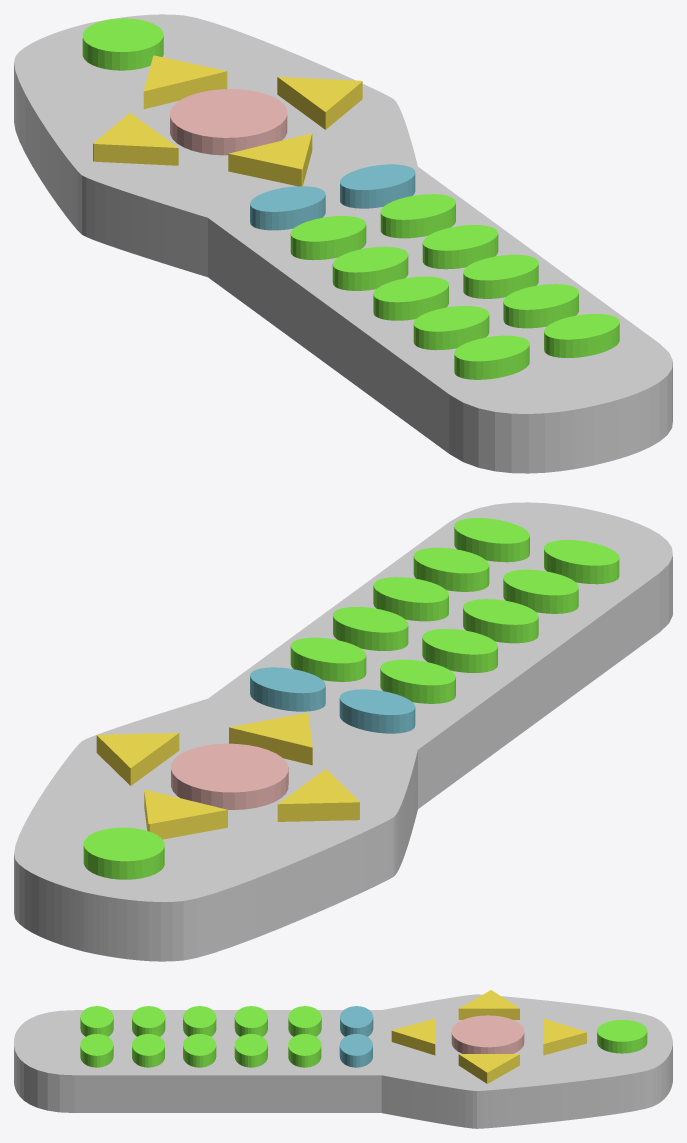
The model's file is remote.glb.
3 views of the same model, one above another, from view 1: azimuth 30°, elevation 25°; view 2: azimuth 150°, elevation 25°; view 3: azimuth 270°, elevation 25° (orthographic). The views are drawn at different scales.
Visible parts, largest first — view 1: Curve, Middle_Button, Power_Button, Prev_Proj, Next_Proj, Next_Channel, Prev_Channel, Button_9, Button_10, Button_1, Button_2, Button_3 (+7 smaller); view 2: Curve, Middle_Button, Power_Button, Next_Proj, Prev_Proj, Info_Button, Prev_Channel, Menu_Button, Button 4, Button_3, Button_2, Button_8 (+7 smaller); view 3: Curve, Middle_Button, Power_Button, Next_Proj, Prev_Proj, Next_Channel, Prev_Channel, Button_2, Button 4, Button_10, Button 6, Menu_Button (+7 smaller).
Part boxes in pixels (x1,y1,x2,y2): Curve: (14, 14, 672, 473); Middle_Button: (170, 89, 287, 155); Power_Button: (82, 18, 163, 70); Prev_Proj: (93, 112, 178, 165); Next_Proj: (277, 76, 362, 129); Next_Channel: (228, 133, 312, 186); Prev_Channel: (143, 55, 227, 109); Button_9: (454, 335, 529, 379); Button_10: (544, 314, 619, 357); Button_1: (290, 216, 366, 260); Button_2: (380, 194, 455, 238); Button_3: (332, 246, 408, 290); Curve: (14, 502, 672, 961); Middle_Button: (171, 743, 288, 809); Power_Button: (83, 827, 164, 879); Next_Proj: (96, 733, 179, 785); Prev_Proj: (277, 769, 359, 821); Info_Button: (339, 689, 415, 733); Prev_Channel: (144, 789, 227, 839); Menu_Button: (250, 667, 325, 711); Button 4: (333, 607, 408, 650); Button_3: (422, 629, 497, 672); Button_2: (290, 637, 366, 681); Button_8: (413, 547, 489, 591); Curve: (14, 994, 672, 1128); Middle_Button: (451, 1015, 524, 1053); Power_Button: (597, 1019, 647, 1053); Next_Proj: (458, 1054, 519, 1083); Prev_Proj: (458, 990, 519, 1019); Next_Channel: (391, 1018, 435, 1055); Prev_Channel: (543, 1018, 586, 1055); Button_2: (288, 1034, 321, 1067); Button 4: (234, 1034, 267, 1067); Button_10: (80, 1034, 113, 1067); Button 6: (183, 1034, 216, 1067); Menu_Button: (339, 1034, 372, 1067).
Bounding box in the file's own units: 2.51 × 0.6006 × 7.24.
